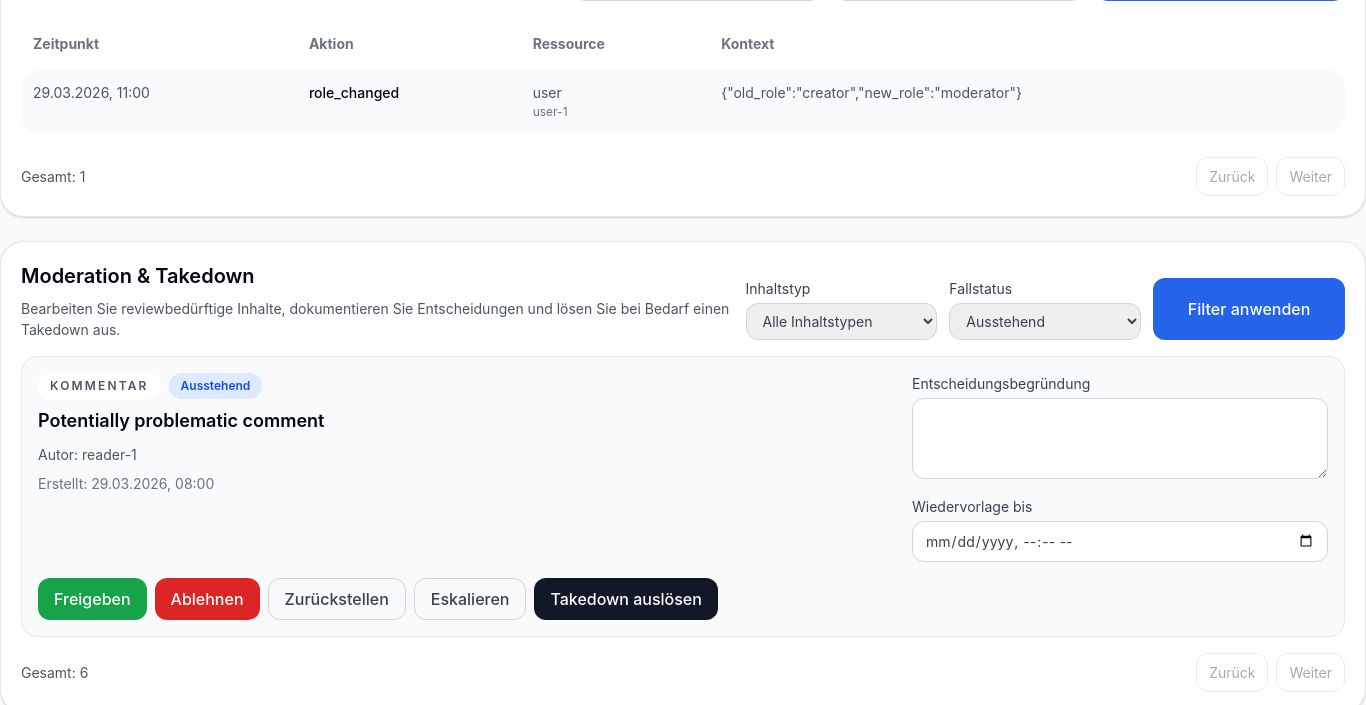
AdminPanelPage › keeps open moderation summary independent from active moderation filters
(page scrolled)
Select "Kommentar" in the dropdown labelled "Inhaltstyp". click: (841, 321)
box: top-left (746, 303), bottom-right (937, 340)
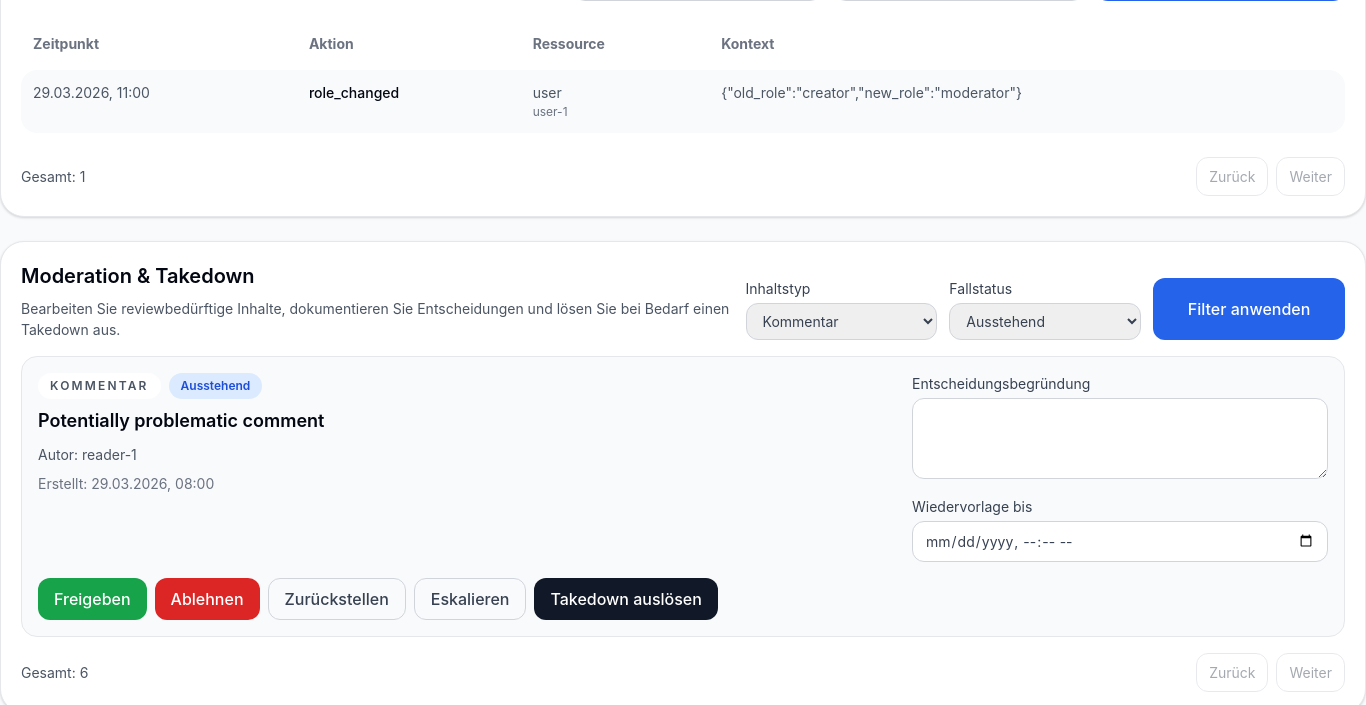
Click the button "Filter anwenden" next to "Fallstatus". click: click(1249, 309)
box: top-left (1153, 278), bottom-right (1345, 340)
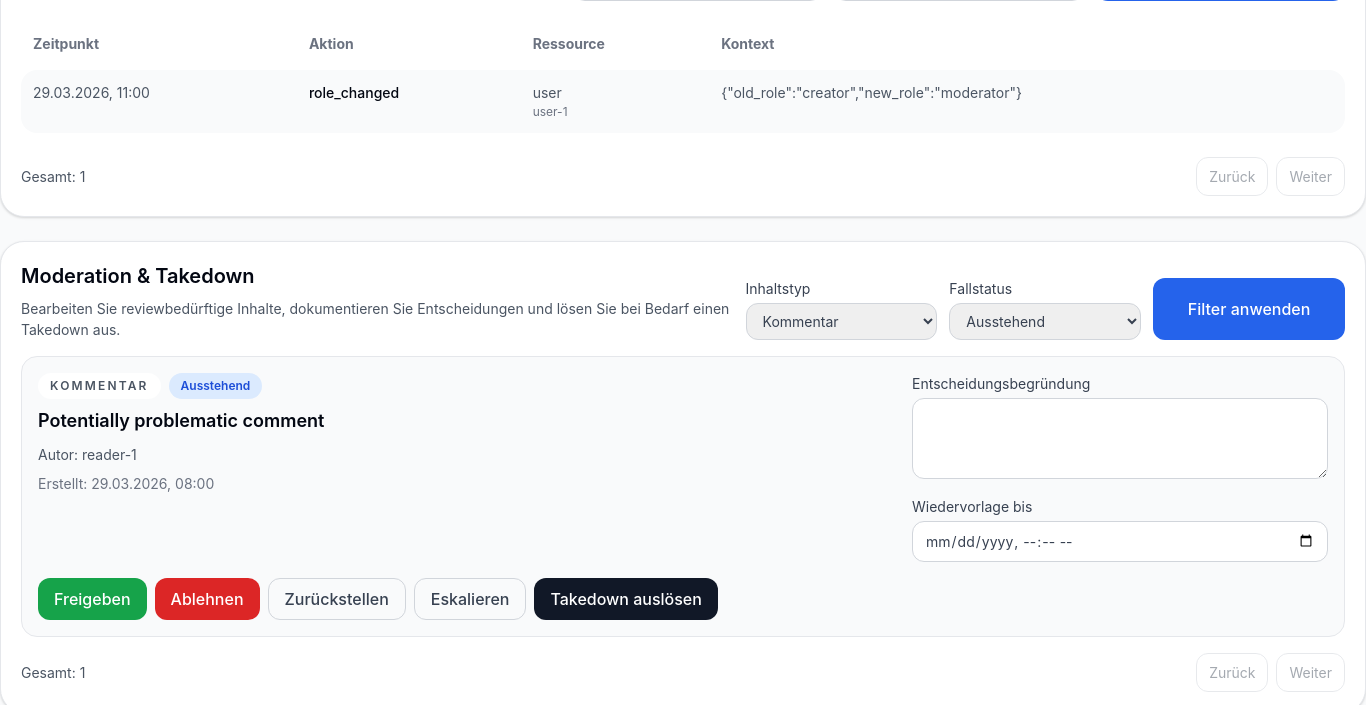
Now the text "Gesamt: 1" below "Erstellt:" is shown, box top-left (21, 662), bottom-right (85, 683)
